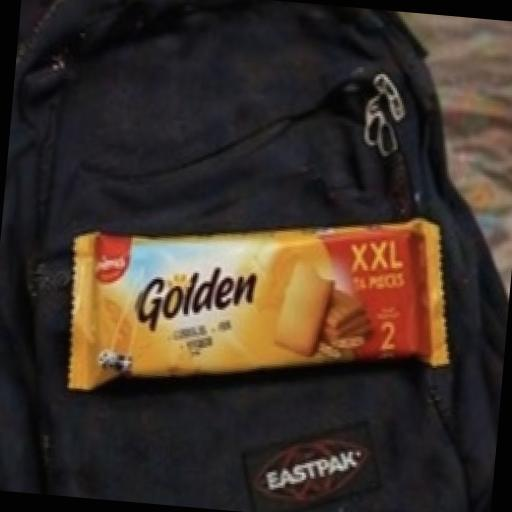golden: (29, 160, 501, 468)
